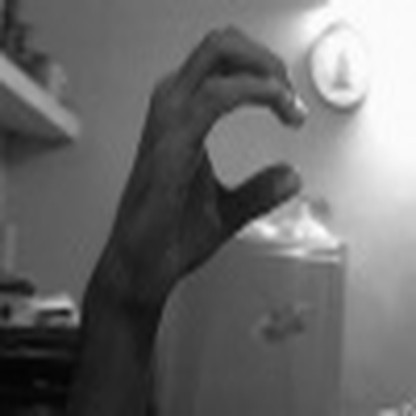c: (118, 14, 308, 275)
